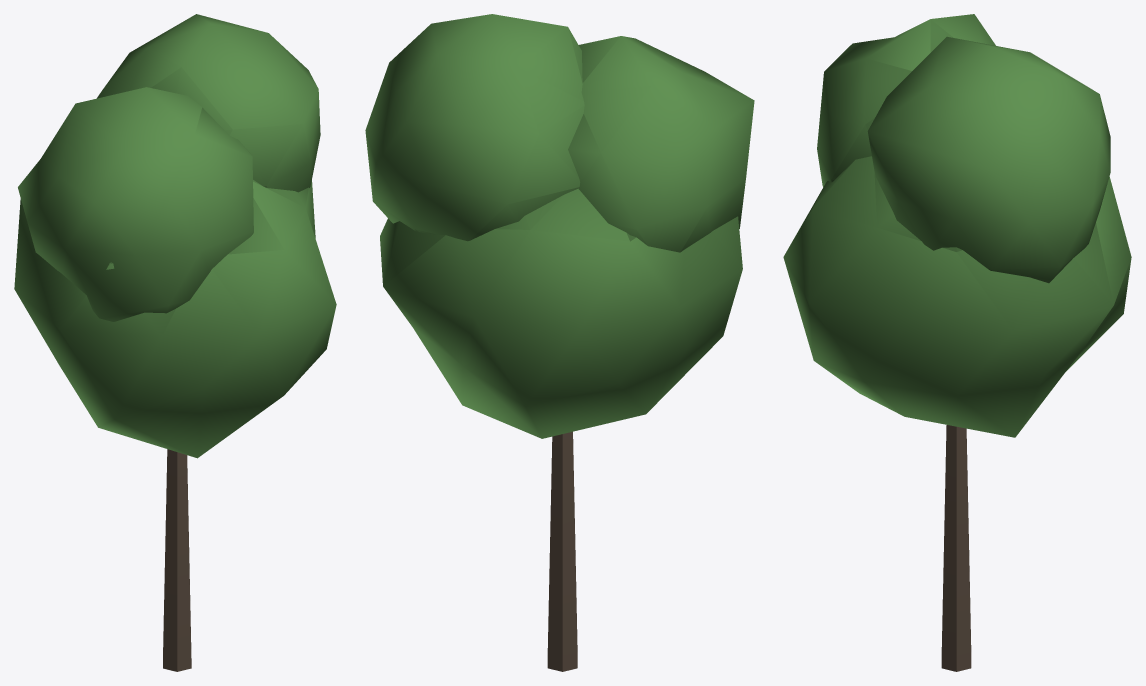
The model's file is arbre2.glb.
3 renders of one model, left to right at view 1: azimuth 30°, elevation 25°; view 2: azimuth 150°, elevation 25°; view 3: azimuth 270°, elevation 25°, orthographic. The views are drawn at different scales.
Visible parts, largest first — view 1: arbre2; view 2: arbre2; view 3: arbre2.
Part boxes in pixels (bbox=[...]): arbre2: bbox=[14, 14, 336, 671]; arbre2: bbox=[365, 14, 754, 671]; arbre2: bbox=[783, 14, 1131, 671].
Bounding box in the file's own units: 4.12 × 8.21 × 4.03.
